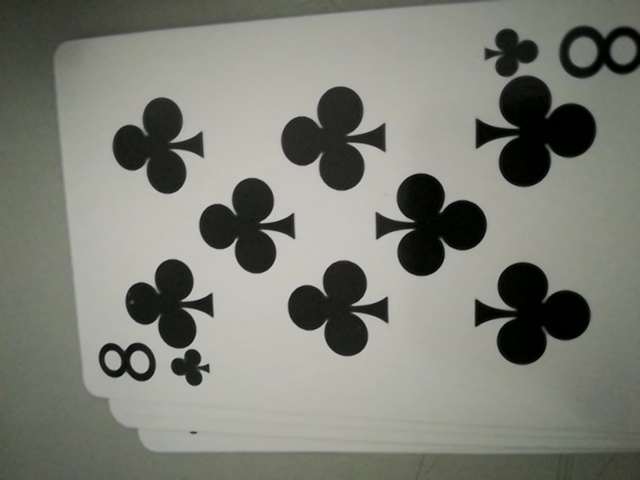mh 8: (483, 13, 639, 83), (95, 336, 214, 395)
